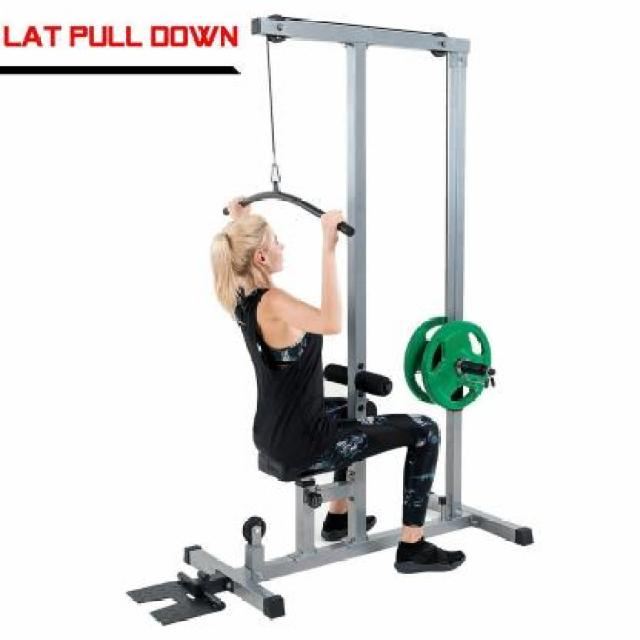Lat Pull Down: (99, 9, 546, 631)
